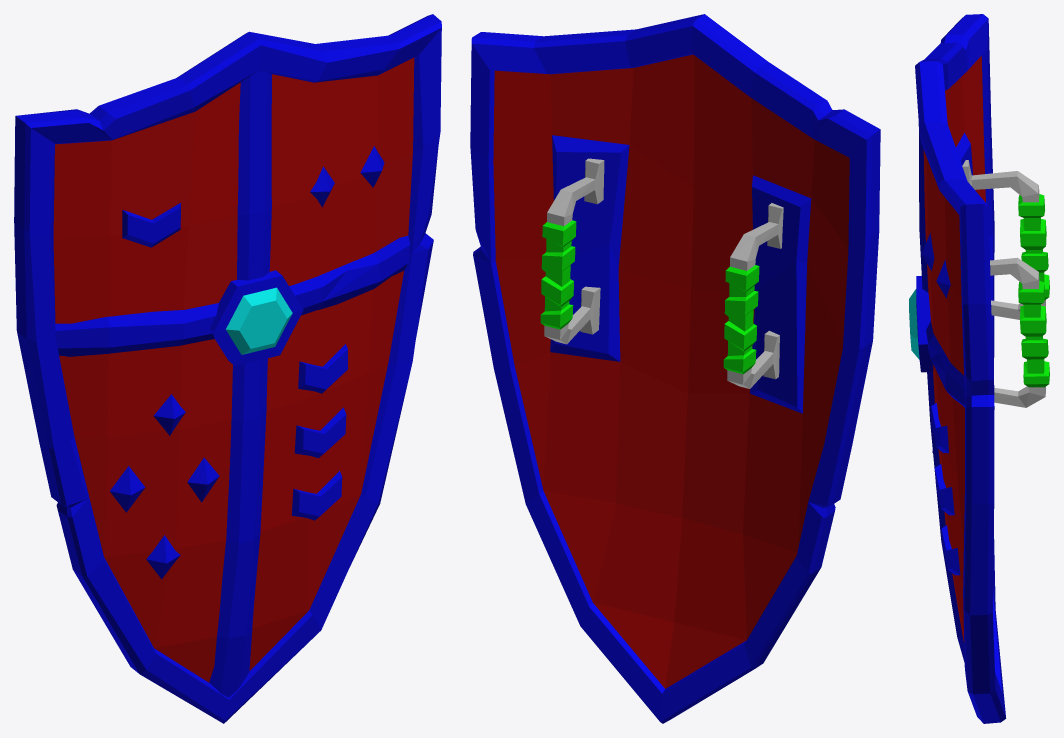
The model's file is Shield_Rare_Thorned.fbx.
3 views of the same model, side by side, from view 1: azimuth 30°, elevation 25°; view 2: azimuth 150°, elevation 25°; view 3: azimuth 270°, elevation 25° (orthographic). The views are drawn at different scales.
Parts seen in each view (by area): view 1: SM_Wep_Shield_02; view 2: SM_Wep_Shield_02; view 3: SM_Wep_Shield_02.
Boxes of the visible parts, bbox=[...] form: SM_Wep_Shield_02: bbox=[14, 14, 441, 723]; SM_Wep_Shield_02: bbox=[470, 14, 880, 723]; SM_Wep_Shield_02: bbox=[909, 14, 1049, 723].
Size of the model in its own units: 66.84 by 109 by 20.96.
